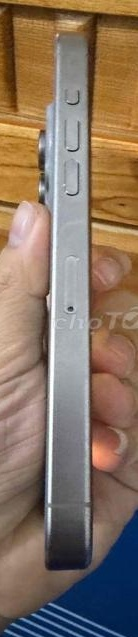scratch: (53, 207, 91, 243)
